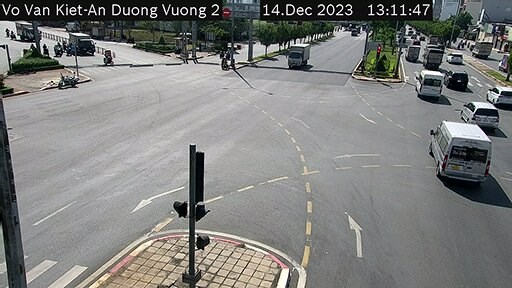car: (432, 120, 489, 185), (414, 66, 447, 100), (460, 96, 497, 126), (445, 63, 470, 87), (489, 83, 504, 105)
truck: (286, 42, 312, 73), (63, 32, 94, 55), (427, 47, 447, 69), (410, 44, 422, 62)
